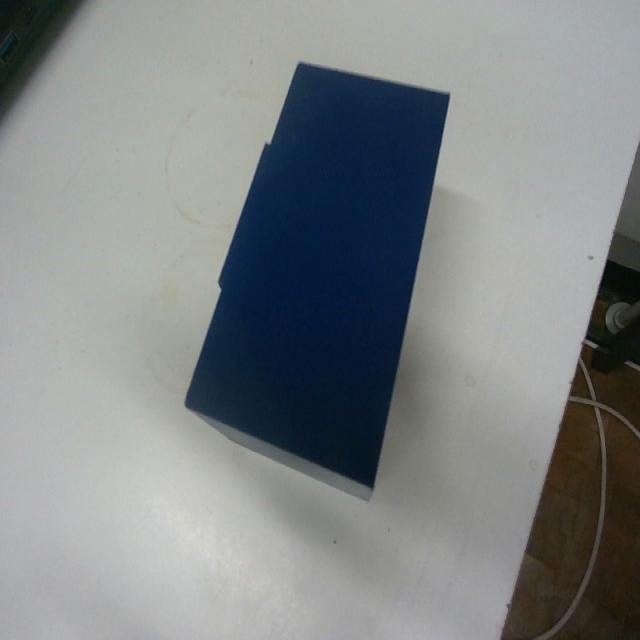Blue Cuboid: (183, 58, 451, 502)
